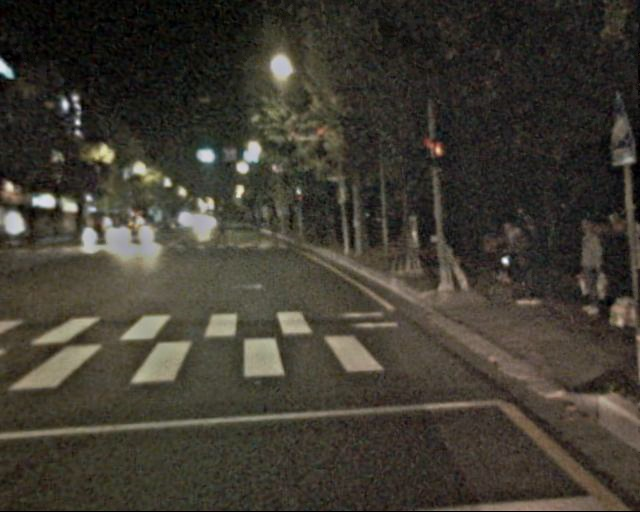person: (572, 219, 611, 314), (512, 209, 548, 282), (513, 227, 547, 304), (494, 221, 525, 291)
